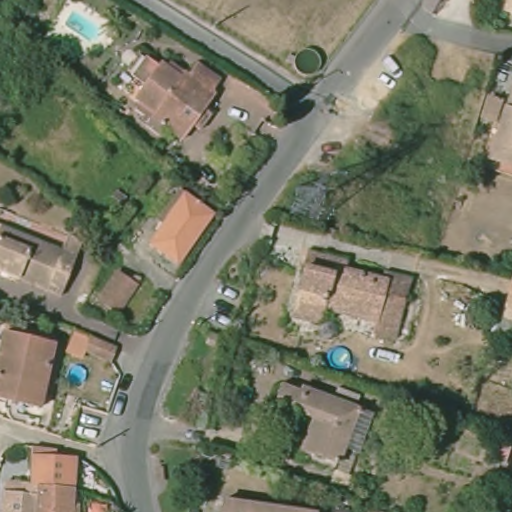pool: (60, 6, 109, 46), (323, 345, 358, 373), (66, 359, 93, 389)
